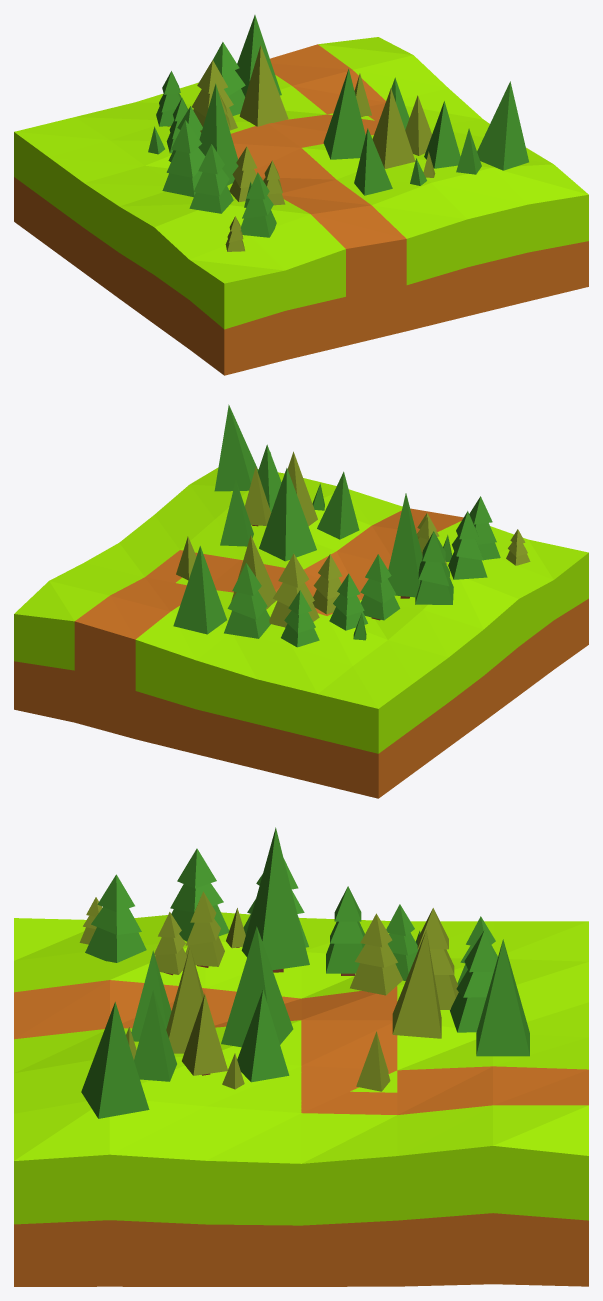
The model's file is TILE_BOIS_terre-vegetal.fbx.
The picture shows the model from 3 angles, top to bottom: view 1: azimuth 30°, elevation 25°; view 2: azimuth 150°, elevation 25°; view 3: azimuth 270°, elevation 25°; orthographic projection. The views are drawn at different scales.
Parts seen in each view (by area): view 1: Arbre 1 vert clair.004; view 2: Arbre 1 vert clair.004; view 3: Arbre 1 vert clair.004.
Boxes of the visible parts, x1=… form: Arbre 1 vert clair.004: x1=14, y1=15, x2=588, y2=375; Arbre 1 vert clair.004: x1=14, y1=404, x2=588, y2=798; Arbre 1 vert clair.004: x1=14, y1=827, x2=588, y2=1286.
Size of the model in its own units: 5 by 2.64 by 5.
